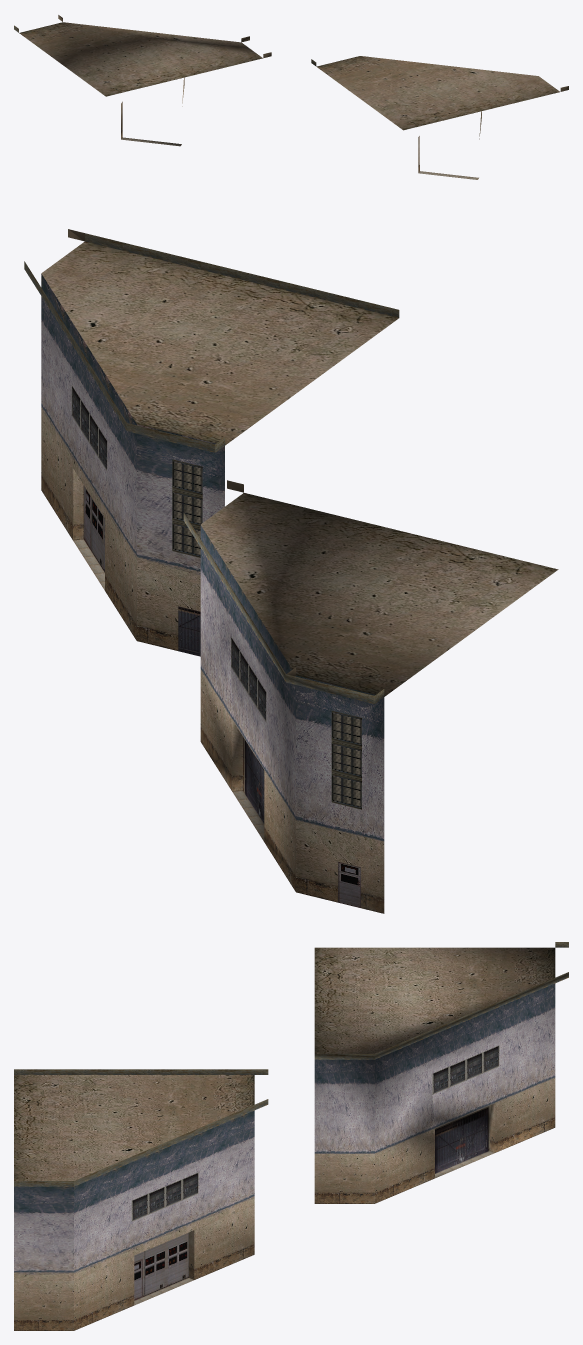
File: M11Z1_Building06_A.glb
3 views of the same model, one above another, from view 1: azimuth 30°, elevation 25°; view 2: azimuth 150°, elevation 25°; view 3: azimuth 270°, elevation 25° (orthographic). The views are drawn at different scales.
Parts seen in each view (by area): view 1: M11Z1_BUILDING06_A; view 2: M11Z1_BUILDING06_A; view 3: M11Z1_BUILDING06_A.
Part boxes in pixels (left/top/right/bottom): M11Z1_BUILDING06_A: left=14, top=15, right=568, bottom=179; M11Z1_BUILDING06_A: left=24, top=229, right=558, bottom=913; M11Z1_BUILDING06_A: left=14, top=942, right=568, bottom=1330.
Size of the model in its own units: 37.58 by 11.42 by 36.9.
9 materials, 9 textured.
